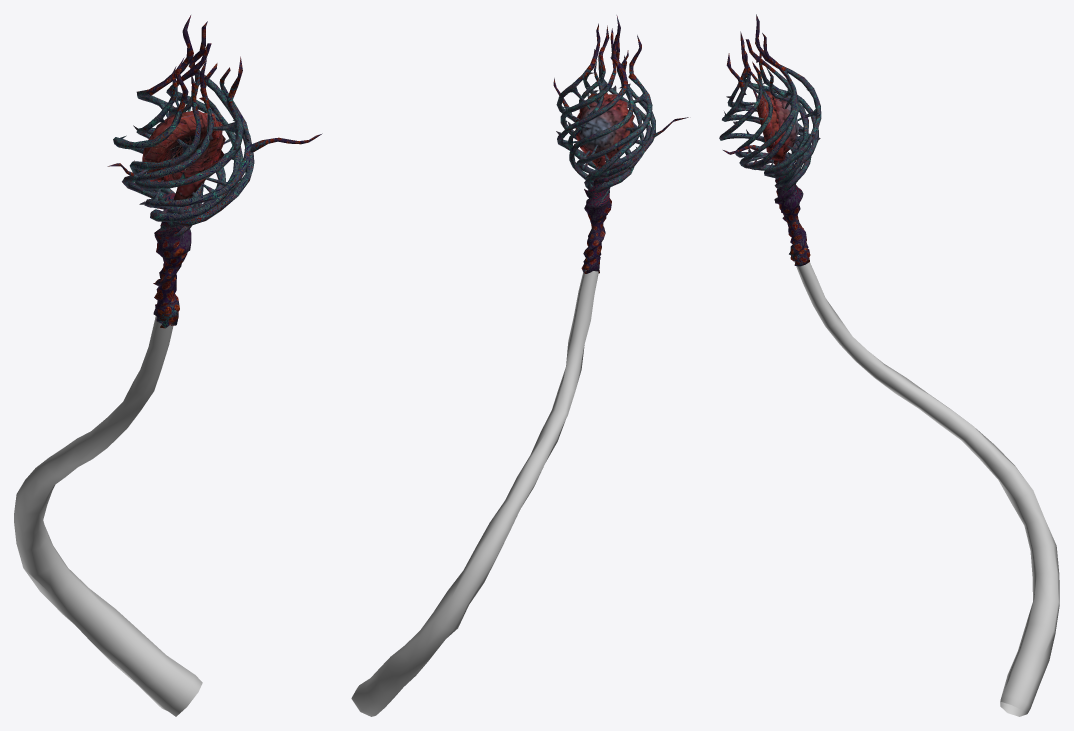
Rendered from sm0667_qliphothl19parts_tentaclec.fbx.
The picture shows the model from 3 angles, left to right: view 1: azimuth 30°, elevation 25°; view 2: azimuth 150°, elevation 25°; view 3: azimuth 270°, elevation 25°; orthographic projection. The views are drawn at different scales.
Parts seen in each view (by area): view 1: LOD_1_Group_0_Sub_2__l19_01_qliphoth_tentacle_A_Mat, LOD_1_Group_0_Sub_1__l19_01_enkei_qliphoth_branch_Mat; view 2: LOD_1_Group_0_Sub_1__l19_01_enkei_qliphoth_branch_Mat, LOD_1_Group_0_Sub_2__l19_01_qliphoth_tentacle_A_Mat; view 3: LOD_1_Group_0_Sub_1__l19_01_enkei_qliphoth_branch_Mat, LOD_1_Group_0_Sub_2__l19_01_qliphoth_tentacle_A_Mat.
Part boxes in pixels (x1,y1,x2,y2): LOD_1_Group_0_Sub_2__l19_01_qliphoth_tentacle_A_Mat: (107,15,322,328); LOD_1_Group_0_Sub_1__l19_01_enkei_qliphoth_branch_Mat: (14,316,202,716); LOD_1_Group_0_Sub_1__l19_01_enkei_qliphoth_branch_Mat: (351,270,598,716); LOD_1_Group_0_Sub_2__l19_01_qliphoth_tentacle_A_Mat: (553,15,688,273); LOD_1_Group_0_Sub_1__l19_01_enkei_qliphoth_branch_Mat: (794,261,1059,716); LOD_1_Group_0_Sub_2__l19_01_qliphoth_tentacle_A_Mat: (719,14,821,266).
Bounding box in the file's own units: 8045 × 24204 × 11570.
